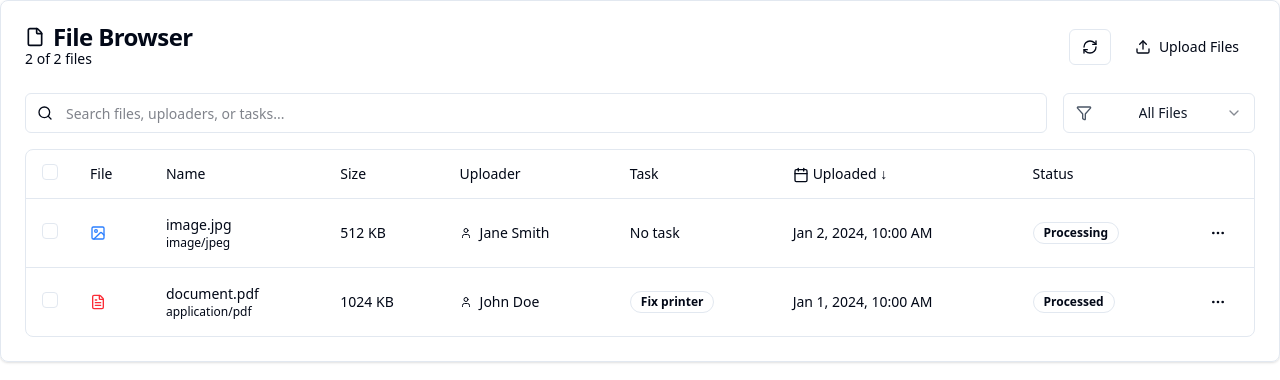
Test: FileBrowser Component › should select and deselect files
This screenshot has width=1280, height=380.
expect the text "document.pdf" is shown: met, box x1=166 y1=284 x2=259 y2=302
// Select first file
What coordinates should you click on to do the following:
click the checkbox next to "image.jpg"
I would click on:
 (50, 230)
Its box is x1=42 y1=222 x2=58 y2=238.
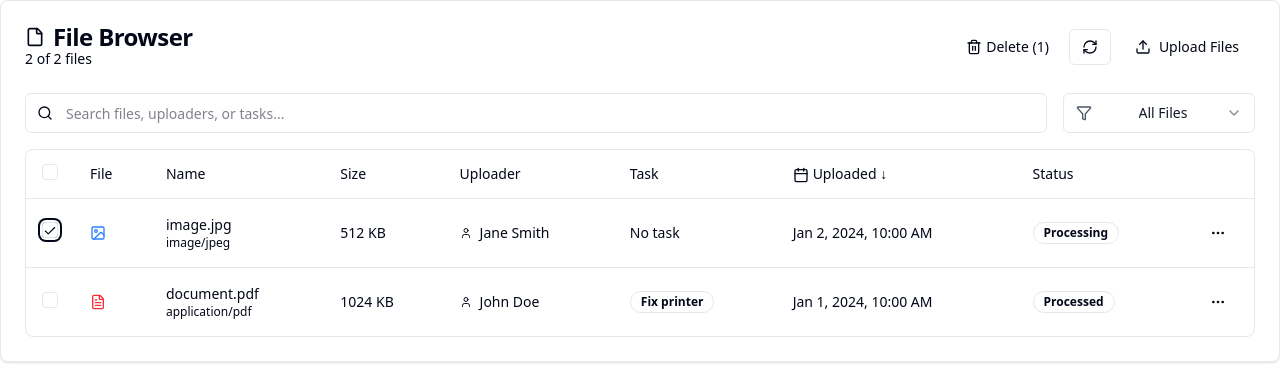
expect the button "Delete (1)" is shown: met, box x1=954 y1=29 x2=1061 y2=65
